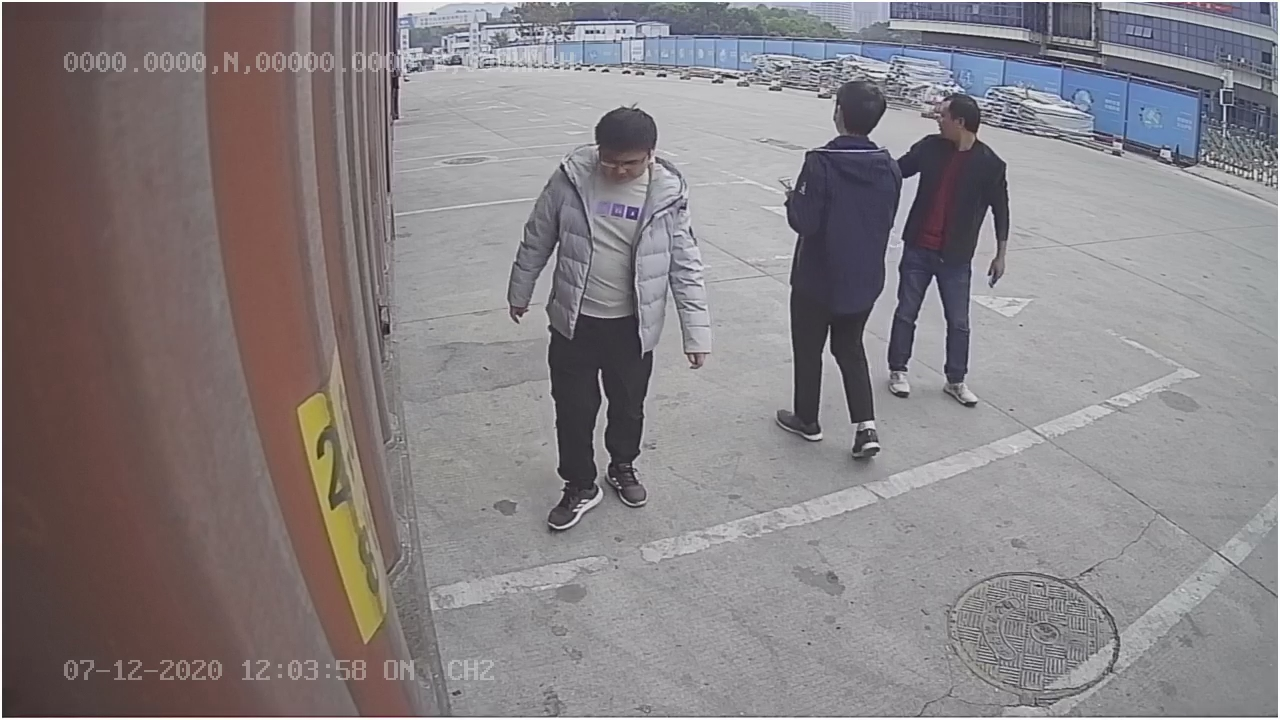person: (509, 96, 714, 536), (775, 68, 901, 463)
